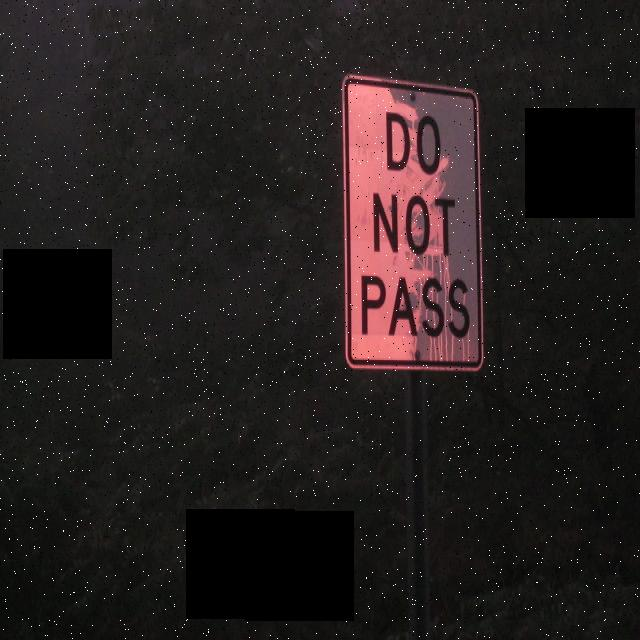regulatory: (339, 72, 489, 380)
